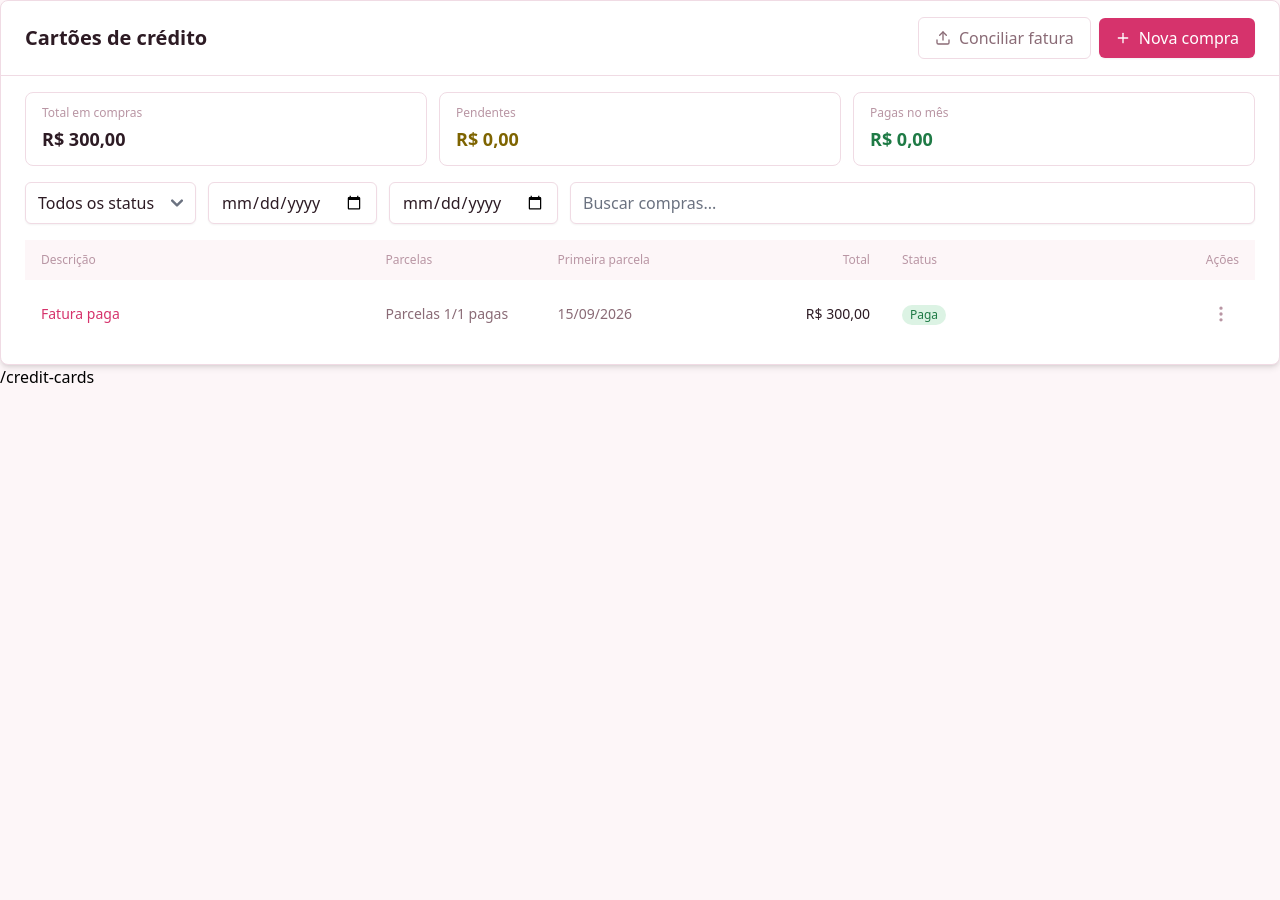
it: CreditCardsPage › opens the new bill modal from the toolbar button
Expected: the button "Fatura paga" is shown, top-left (41, 304), bottom-right (120, 324)
Click the button "Nova compra" at (1177, 38), box top-left (1099, 18), bottom-right (1255, 58)
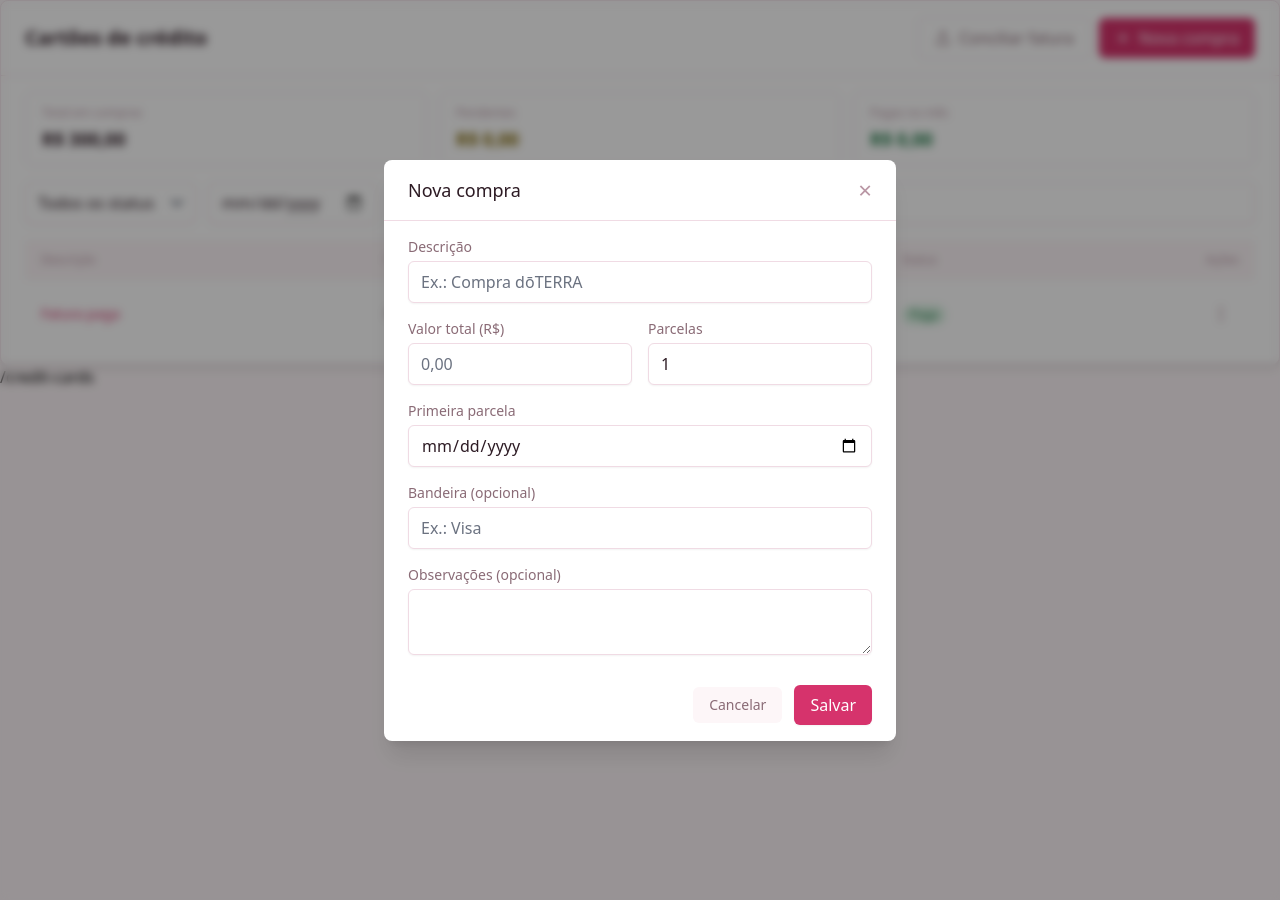
Now the element with test id "bill-form-modal" is shown
Now the heading "Nova compra" is shown, box top-left (408, 176), bottom-right (521, 204)
